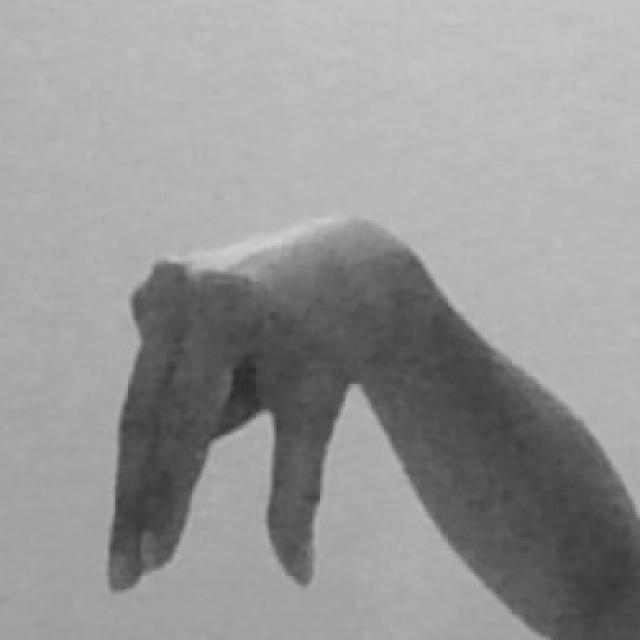Q: (105, 207, 640, 640)
